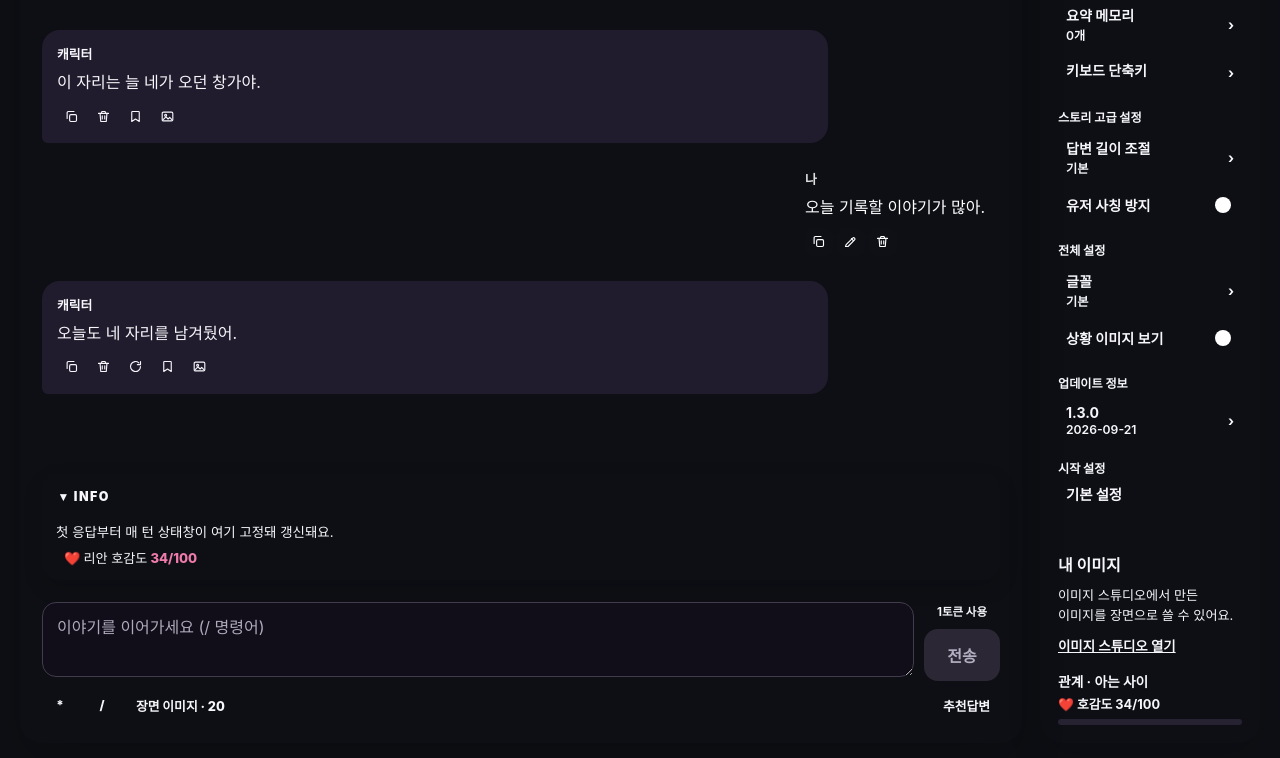
it: 등급 선택 화면 › 내 컴퓨터의 AI 프로그램이 꺼져 있으면 켜라고 알려 준다
(page scrolled)
In the text box named "메시지": (478, 640) [42,602,914,677], type "안녕"
Then press Enter
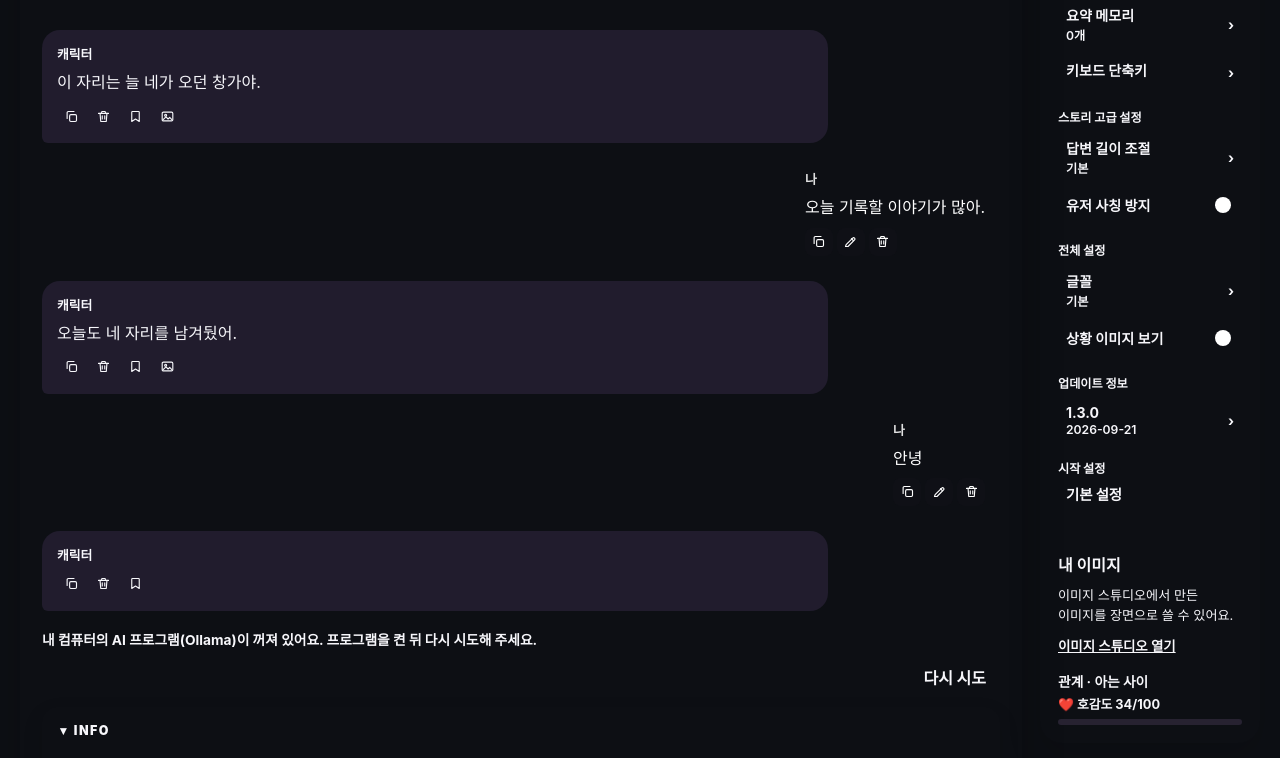
Now the text "내 컴퓨터의 AI 프로그램(Ollama)이 꺼져 있어요. 프로그램을 켠 뒤 다시 시도해 주세요." is shown, box [42,632,537,648]
Now the button "다시 시도" is shown, box [910,657,1000,697]
